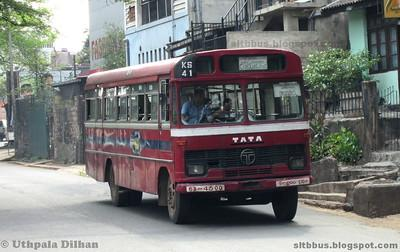bus: (80, 44, 315, 222)
